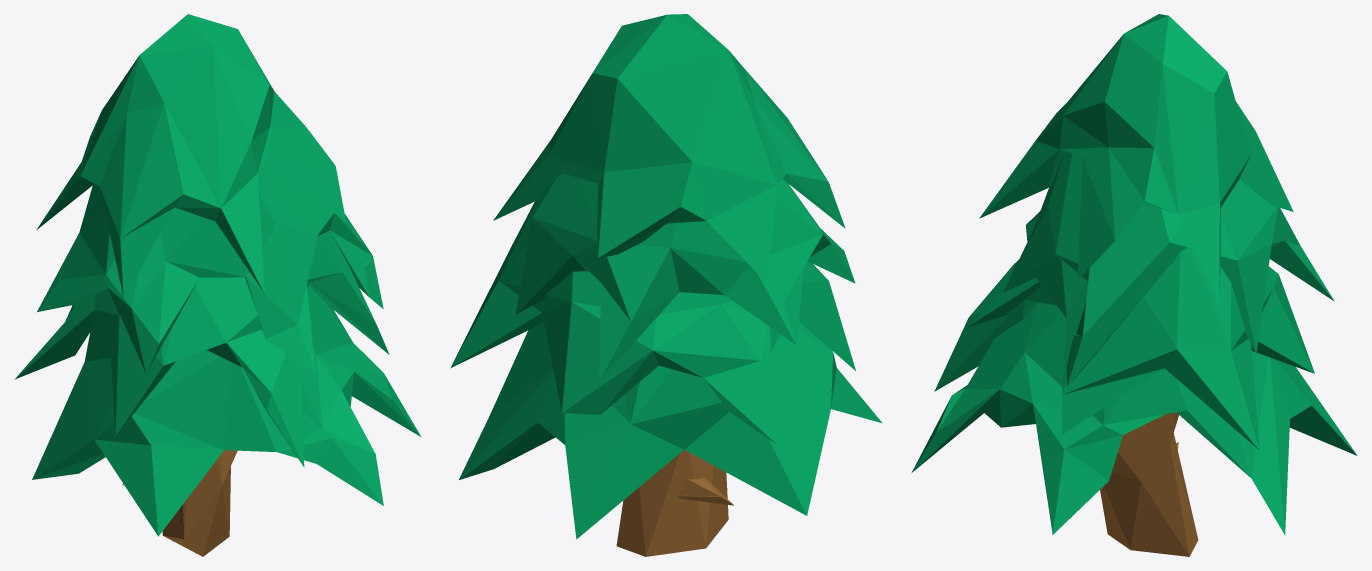
The model's file is PineTreeLP2.fbx.
3 views of the same model, side by side, from view 1: azimuth 30°, elevation 25°; view 2: azimuth 150°, elevation 25°; view 3: azimuth 270°, elevation 25° (orthographic). The views are drawn at different scales.
Visible parts, largest first — view 1: polySurface396; view 2: polySurface396; view 3: polySurface396.
Boxes of the visible parts, x1,y1,x2,y2 form: polySurface396: [14, 14, 420, 556]; polySurface396: [450, 14, 882, 556]; polySurface396: [911, 14, 1357, 556].
Size of the model in its own units: 27.74 by 42.62 by 32.79.
